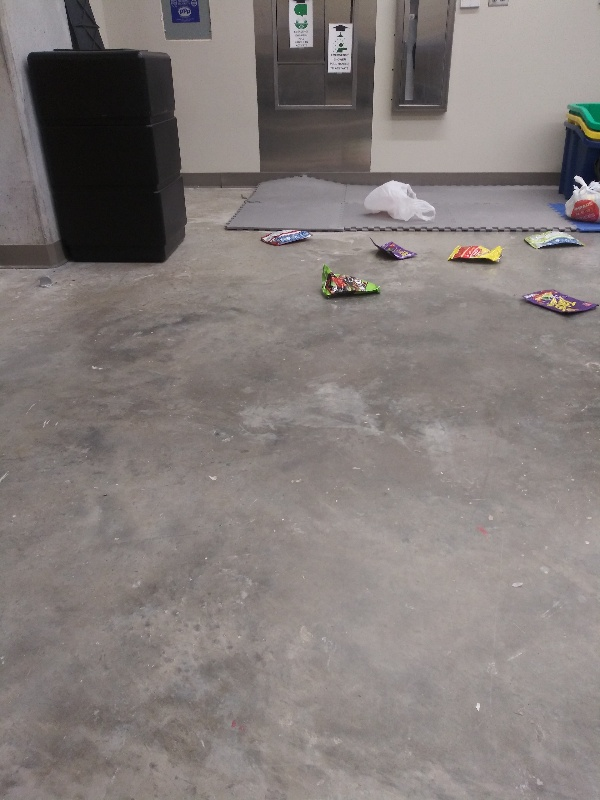bag: (311, 261, 387, 303), (516, 287, 600, 320), (441, 240, 509, 269), (366, 232, 421, 265), (254, 224, 320, 248), (518, 229, 582, 251)
